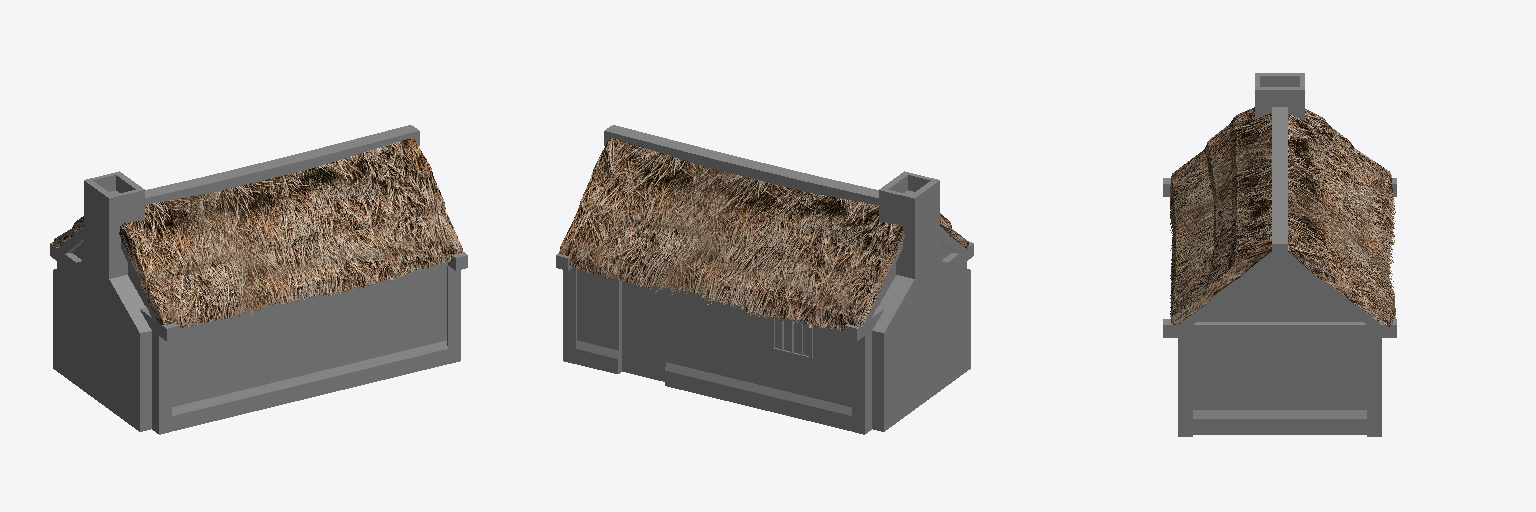
The picture shows the model from 3 angles: view 1: azimuth 30°, elevation 25°; view 2: azimuth 150°, elevation 25°; view 3: azimuth 270°, elevation 25°; orthographic projection.
Visible parts, largest first — view 1: poorfolks_cottage_thatched_attached; view 2: poorfolks_cottage_thatched_attached; view 3: poorfolks_cottage_thatched_attached.
Boxes of the visible parts, x1=… form: poorfolks_cottage_thatched_attached: x1=50, y1=125, x2=467, y2=434; poorfolks_cottage_thatched_attached: x1=556, y1=125, x2=973, y2=434; poorfolks_cottage_thatched_attached: x1=1163, y1=73, x2=1396, y2=436.
Bounding box in the file's own units: 695 × 440 × 442.
7 materials, 1 textured.